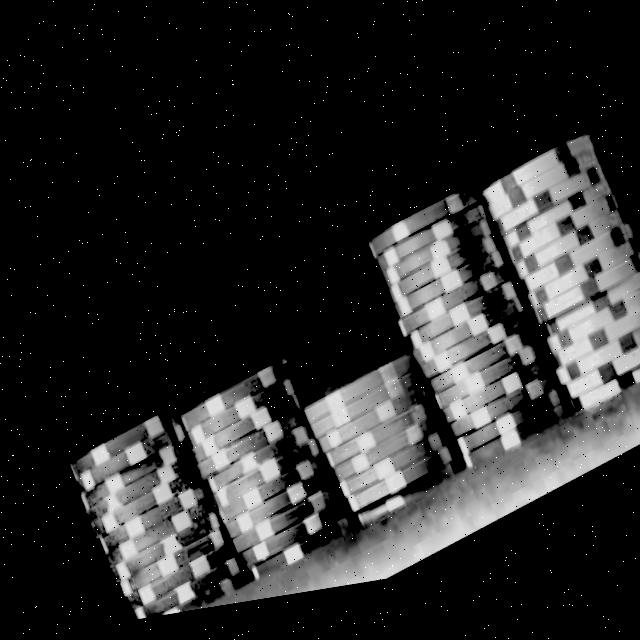Chip: (356, 173, 576, 516), (468, 120, 640, 461), (172, 350, 363, 609), (58, 393, 252, 633), (289, 342, 471, 564)
